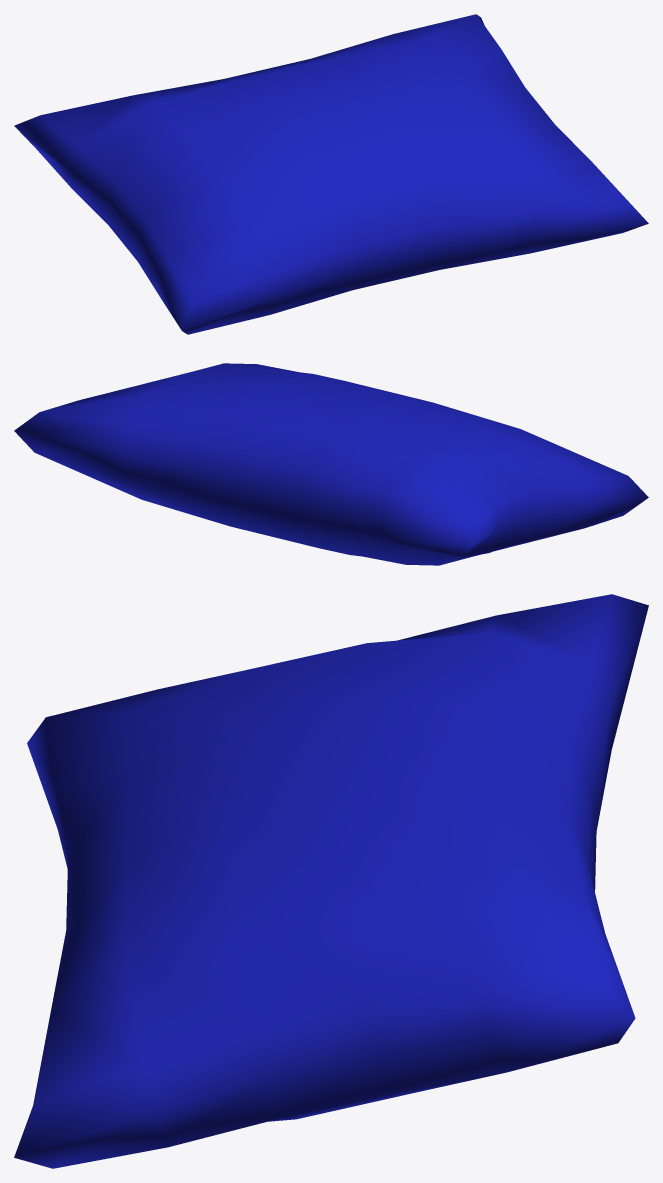
Rendered from kussen.fbx.
The picture shows the model from 3 angles, top to bottom: view 1: azimuth 30°, elevation 25°; view 2: azimuth 150°, elevation 25°; view 3: azimuth 270°, elevation 25°; orthographic projection. The views are drawn at different scales.
Parts seen in each view (by area): view 1: Kussen; view 2: Kussen; view 3: Kussen.
Part boxes in pixels (x1,y1,x2,y2): Kussen: (14,14,648,334); Kussen: (14,363,648,565); Kussen: (14,594,648,1168).
Bounding box in the file's own units: 56.05 × 17.59 × 36.47.
